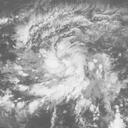cyclone: (30, 42, 100, 104)
